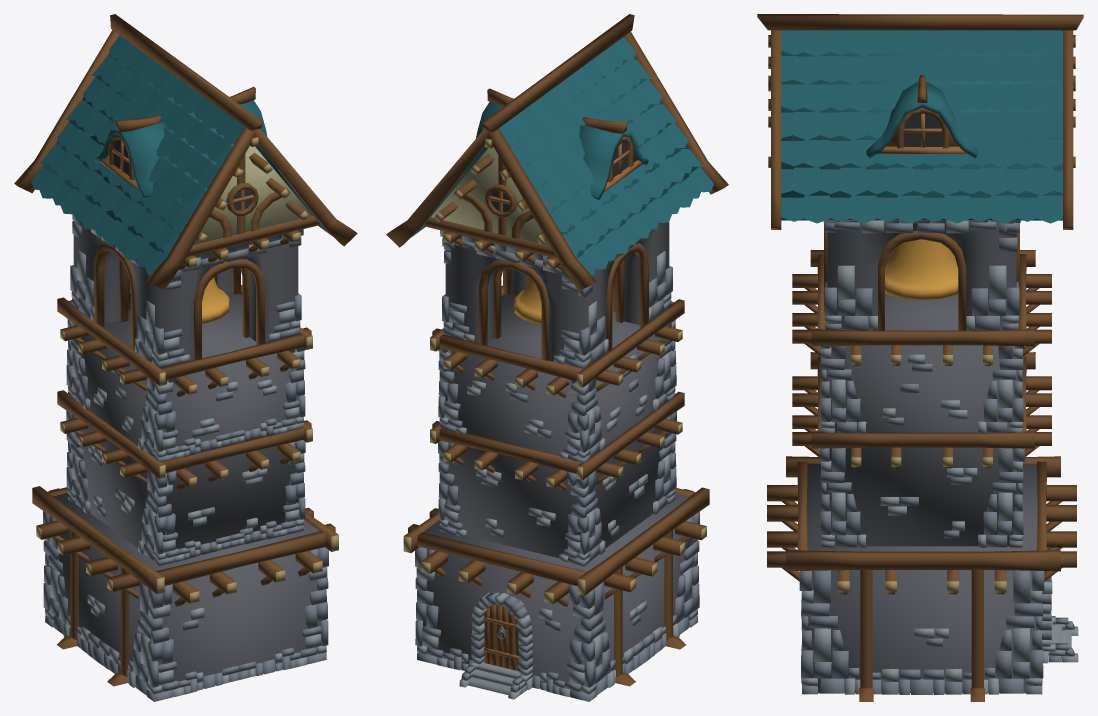
Rendered from bell_tower.001_lev2.glb.
3 renders of one model, left to right at view 1: azimuth 30°, elevation 25°; view 2: azimuth 150°, elevation 25°; view 3: azimuth 270°, elevation 25°, orthographic. The views are drawn at different scales.
Visible parts, largest first — view 1: bell_tower.001_lev2; view 2: bell_tower.001_lev2; view 3: bell_tower.001_lev2.
Boxes of the visible parts, x1,y1,x2,y2 form: bell_tower.001_lev2: (14,14,357,701); bell_tower.001_lev2: (386,14,728,701); bell_tower.001_lev2: (757,14,1083,701).
Bounding box in the file's own units: 4.84 × 11.9 × 5.57.
